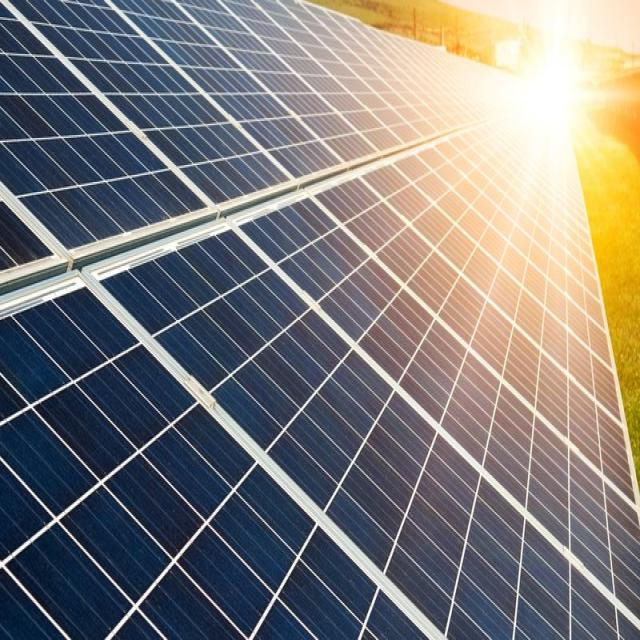clean-solar-panel: (1, 0, 640, 638)
